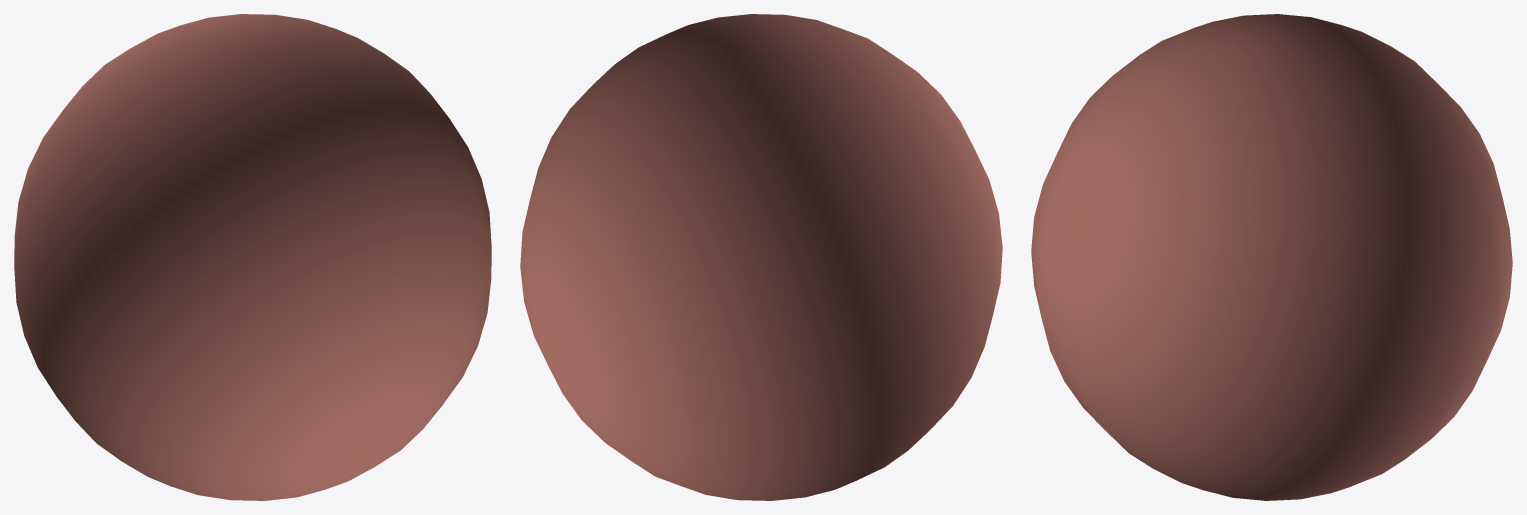
Rendered from leftElbowJoint.glb.
3 renders of one model, left to right at view 1: azimuth 30°, elevation 25°; view 2: azimuth 150°, elevation 25°; view 3: azimuth 270°, elevation 25°, orthographic.
Visible parts, largest first — view 1: Beta_Joints.008; view 2: Beta_Joints.008; view 3: Beta_Joints.008.
Boxes of the visible parts, left/top/right/bottom form: Beta_Joints.008: left=14, top=14, right=491, bottom=500; Beta_Joints.008: left=520, top=14, right=1002, bottom=500; Beta_Joints.008: left=1031, top=14, right=1512, bottom=500.
Bounding box in the file's own units: 8.04 × 8.17 × 8.04.
